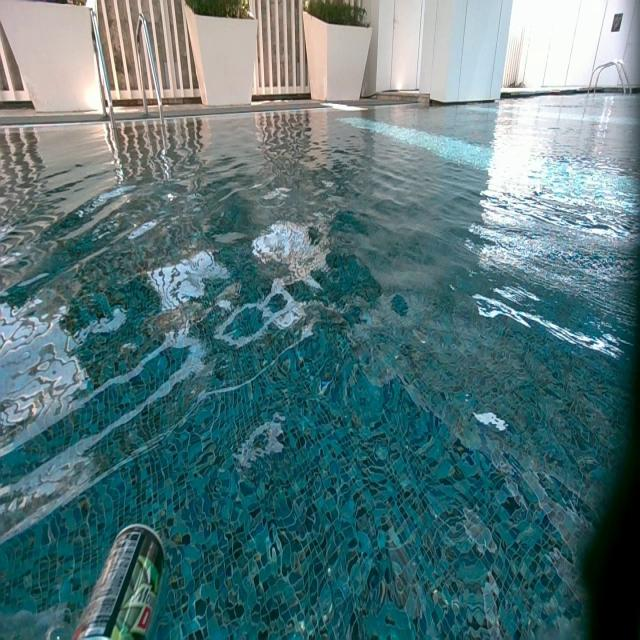Cans: (71, 522, 169, 640)
